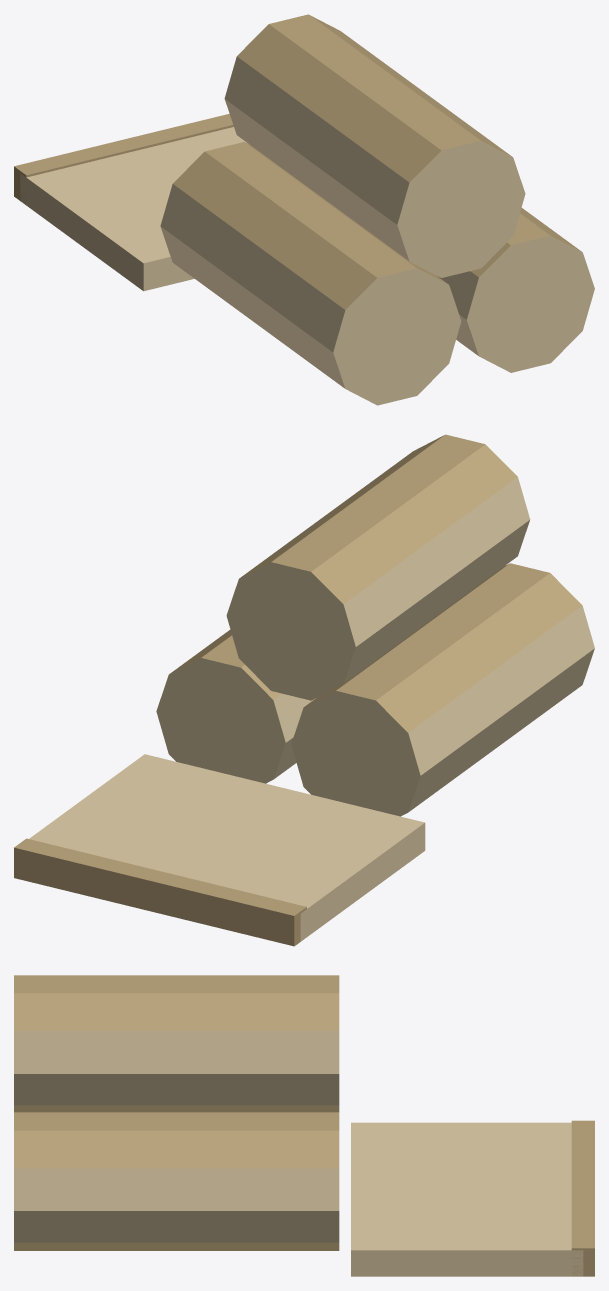
File: textile.glb
3 renders of one model, top to bottom at view 1: azimuth 30°, elevation 25°; view 2: azimuth 150°, elevation 25°; view 3: azimuth 270°, elevation 25°, orthographic. The views are drawn at different scales.
Parts seen in each view (by area): view 1: textile; view 2: textile; view 3: textile.
Part boxes in pixels (bbox=[...]): textile: bbox=[14, 14, 594, 405]; textile: bbox=[14, 434, 594, 946]; textile: bbox=[14, 975, 594, 1276].
Size of the model in its own units: 0.26 by 0.2171 by 0.5.
1 material, 1 textured.
